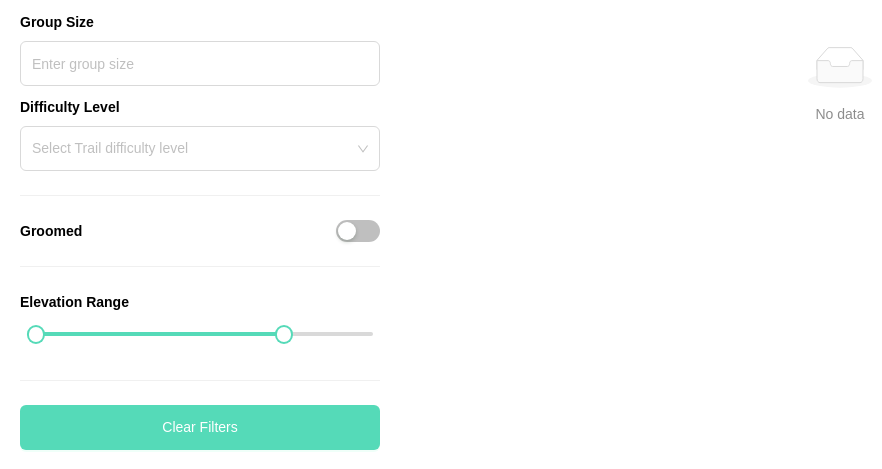
Scenario: Select Difficulty Dropdown › Should load the homepage on http://localhost:3000
The width and height of the screenshot is (882, 469).
Step 1. Click the element with test id "trail-level-select" → [200, 149], box [20,126,380,171]
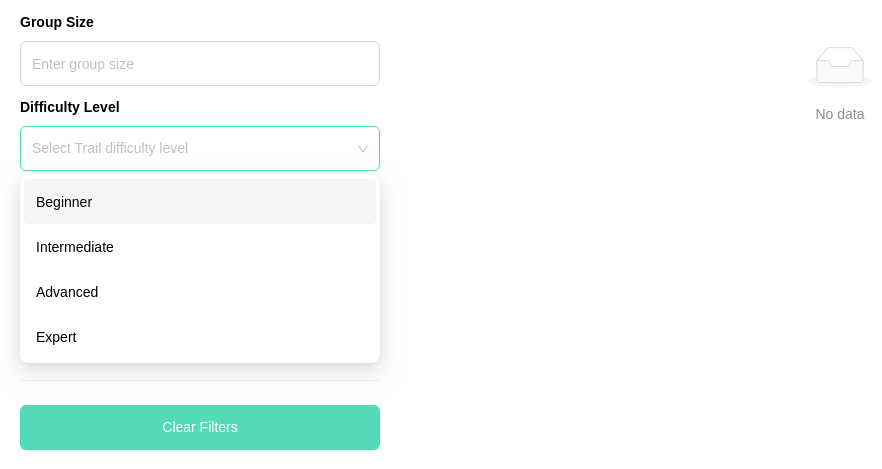
Check: the number of elements with test id "difficulty-level-option" is 4, box [24,179,376,224]; [36,238,114,254]; [36,284,98,300]; [36,328,76,344]
